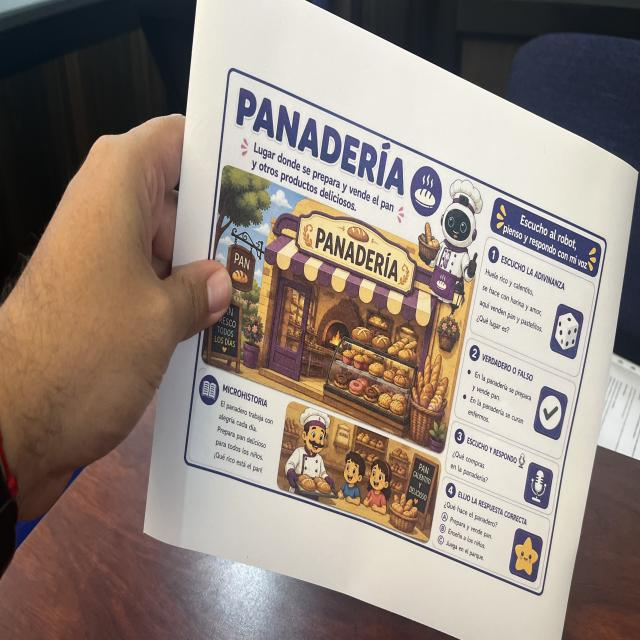panaderia: (181, 62, 610, 601)
